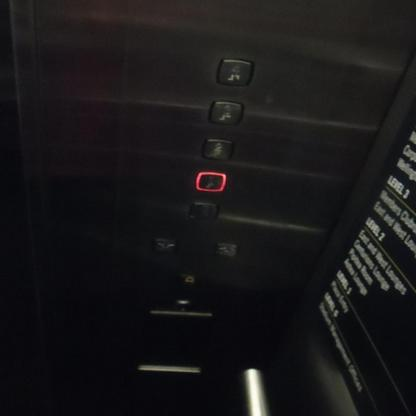2: (202, 138, 232, 160)
3: (209, 101, 242, 125)
4: (216, 59, 253, 87)
alarm: (178, 272, 198, 287)
blur: (195, 172, 226, 192), (188, 202, 218, 222), (214, 242, 239, 259)
close: (152, 238, 177, 255)
